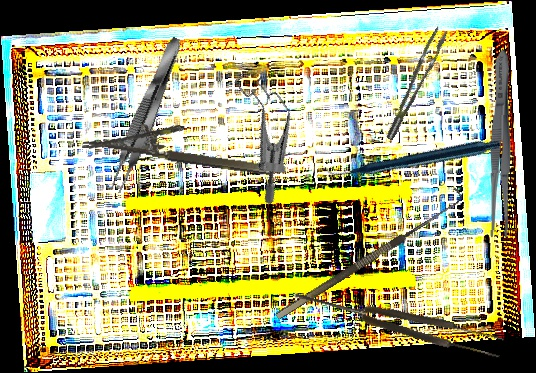Dressing Forceps: (487, 48, 515, 240)
Handpiece: (323, 77, 502, 236)
Hook Surgical: (268, 186, 467, 321)
Needle Holder: (81, 110, 276, 178)
Speculum: (195, 58, 330, 207)
Tissue Forceps: (290, 280, 506, 362), (104, 34, 189, 196), (371, 25, 459, 141)
